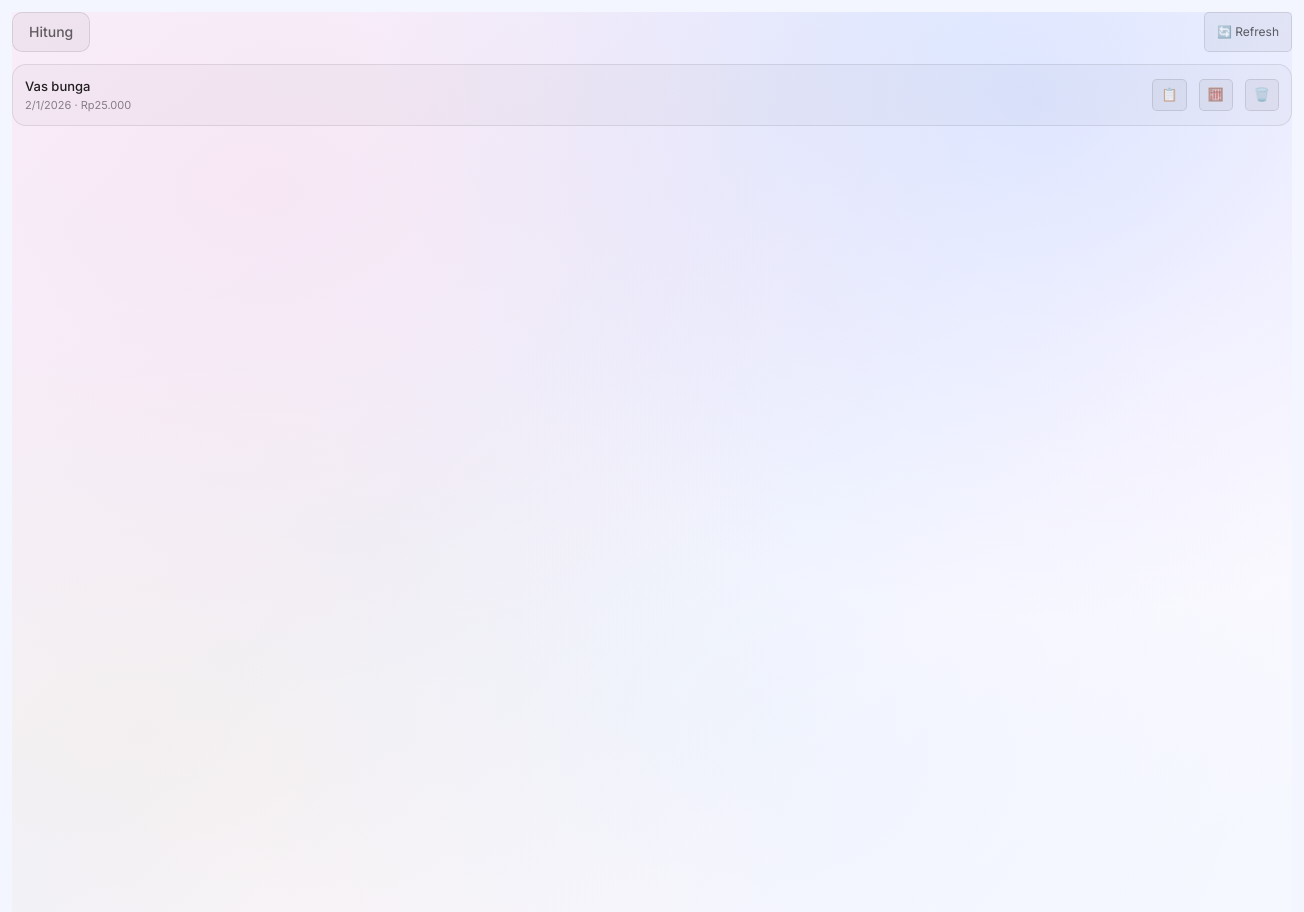
Scenario: RiwayatList: Duplikat & Hitung ulang › input plate tak valid → pesan error, putKalkulasi TIDAK dipanggil
Expected: the text "Vas bunga" is shown, [25, 78, 90, 94]
Click the button named "Duplikat".
click(1169, 95)  # box [1152, 79, 1186, 111]
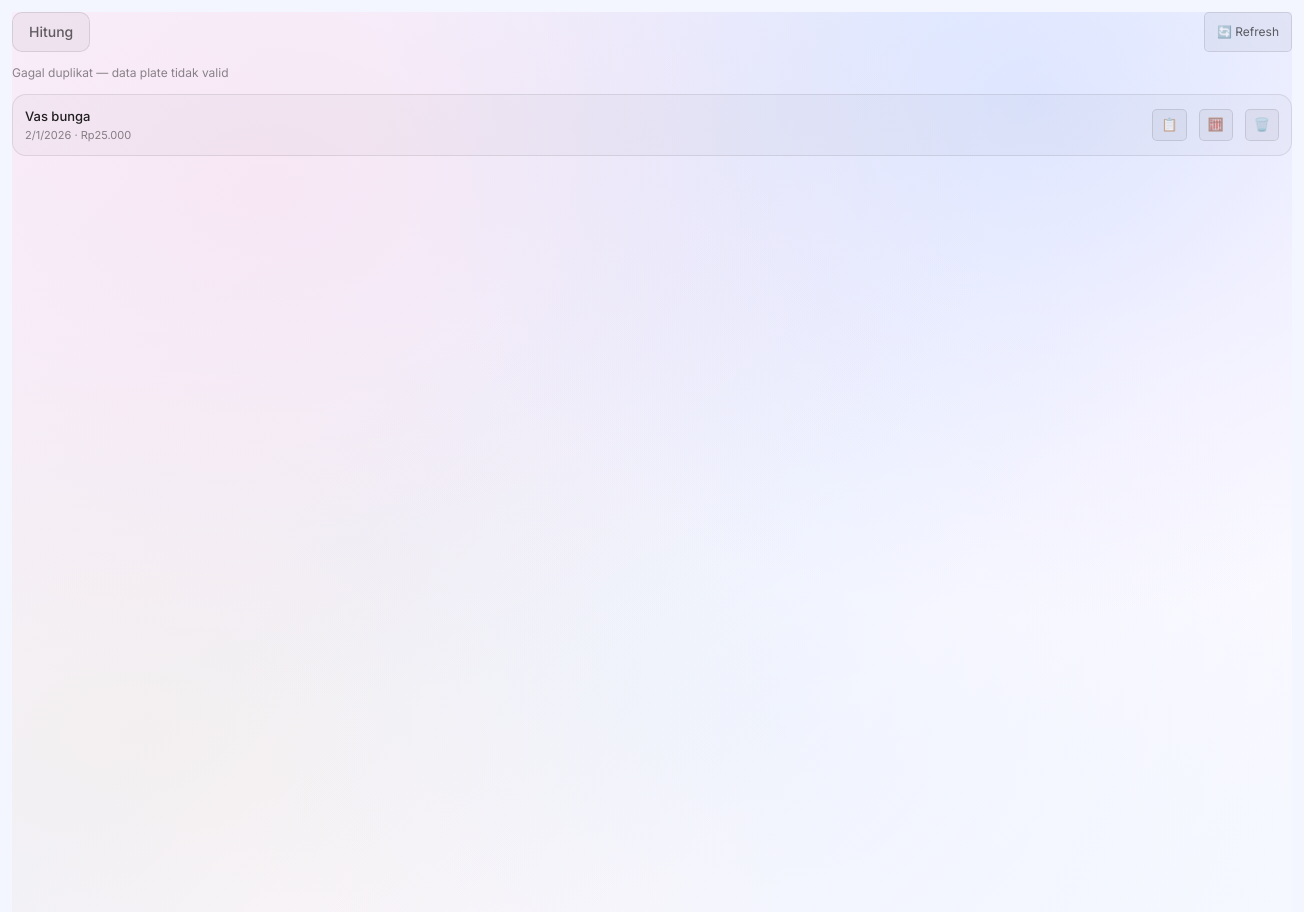
Expected: the text "Gagal duplikat — data plate tidak valid" is shown, [12, 65, 228, 80]
